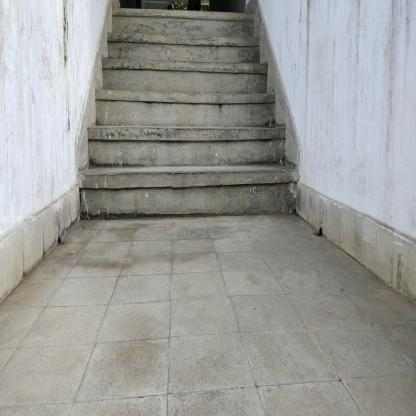stairs: (115, 23, 254, 241)
